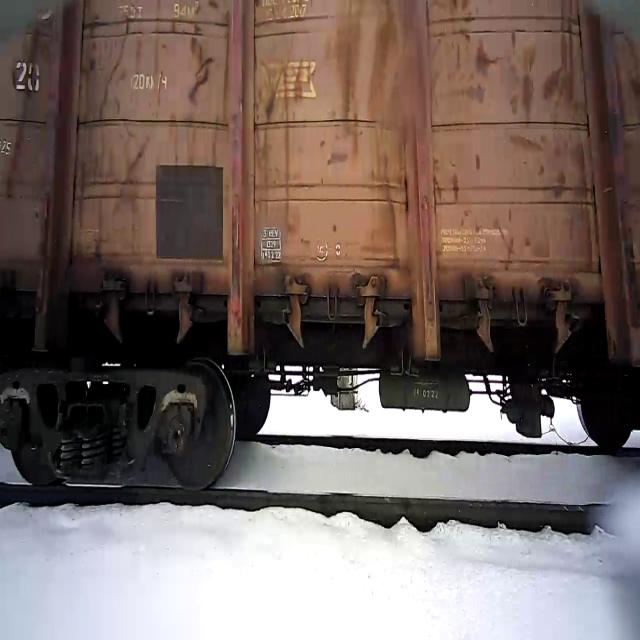gondola: (0, 0, 640, 503)
